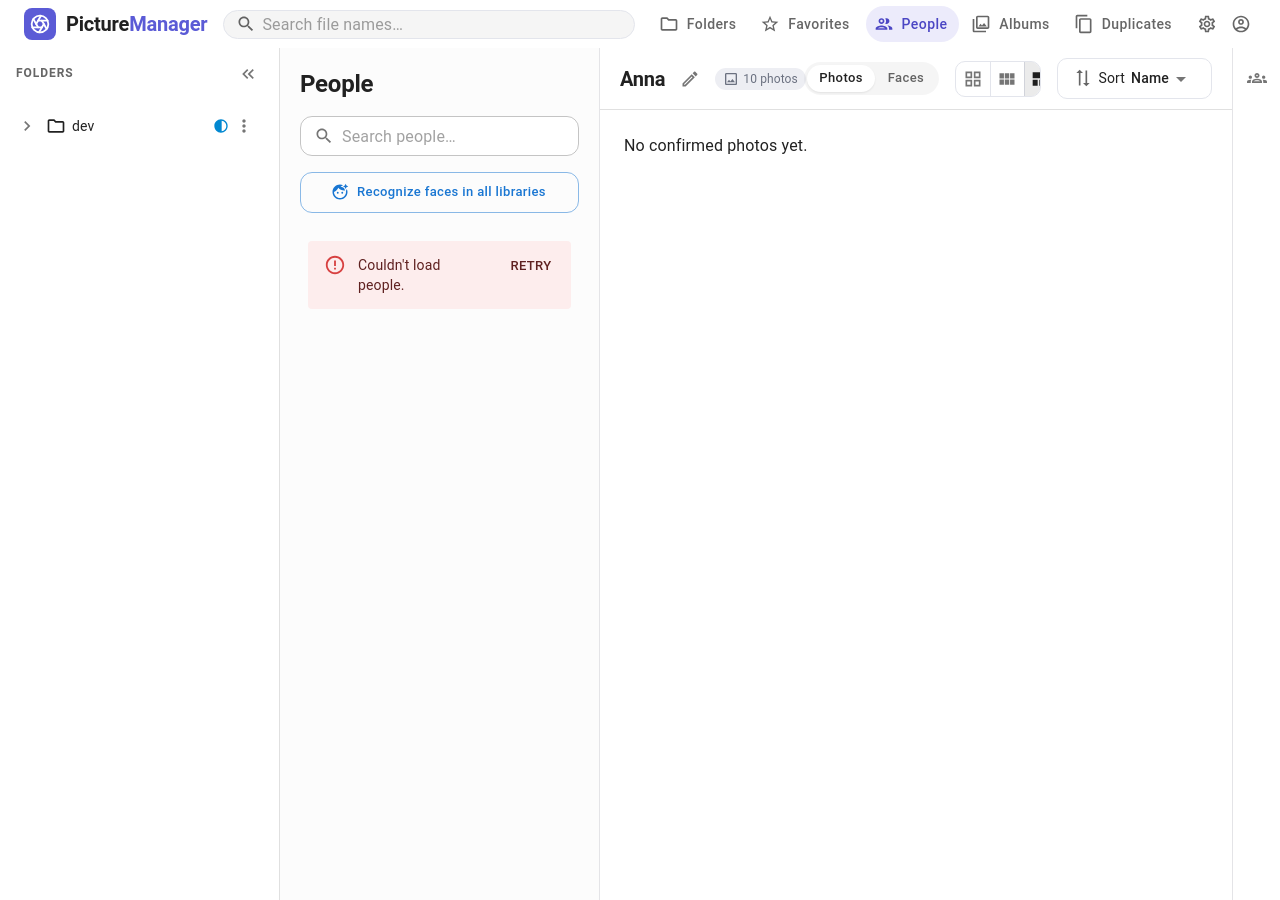
PersonView › shows the confirmed photo grid filtered by person
Check: the heading "Anna" is shown, box [620, 62, 665, 94]
Check: the text "10 photos" is shown, box [743, 70, 798, 88]
Click the button named "Edit person": (690, 78) [675, 64, 705, 94]
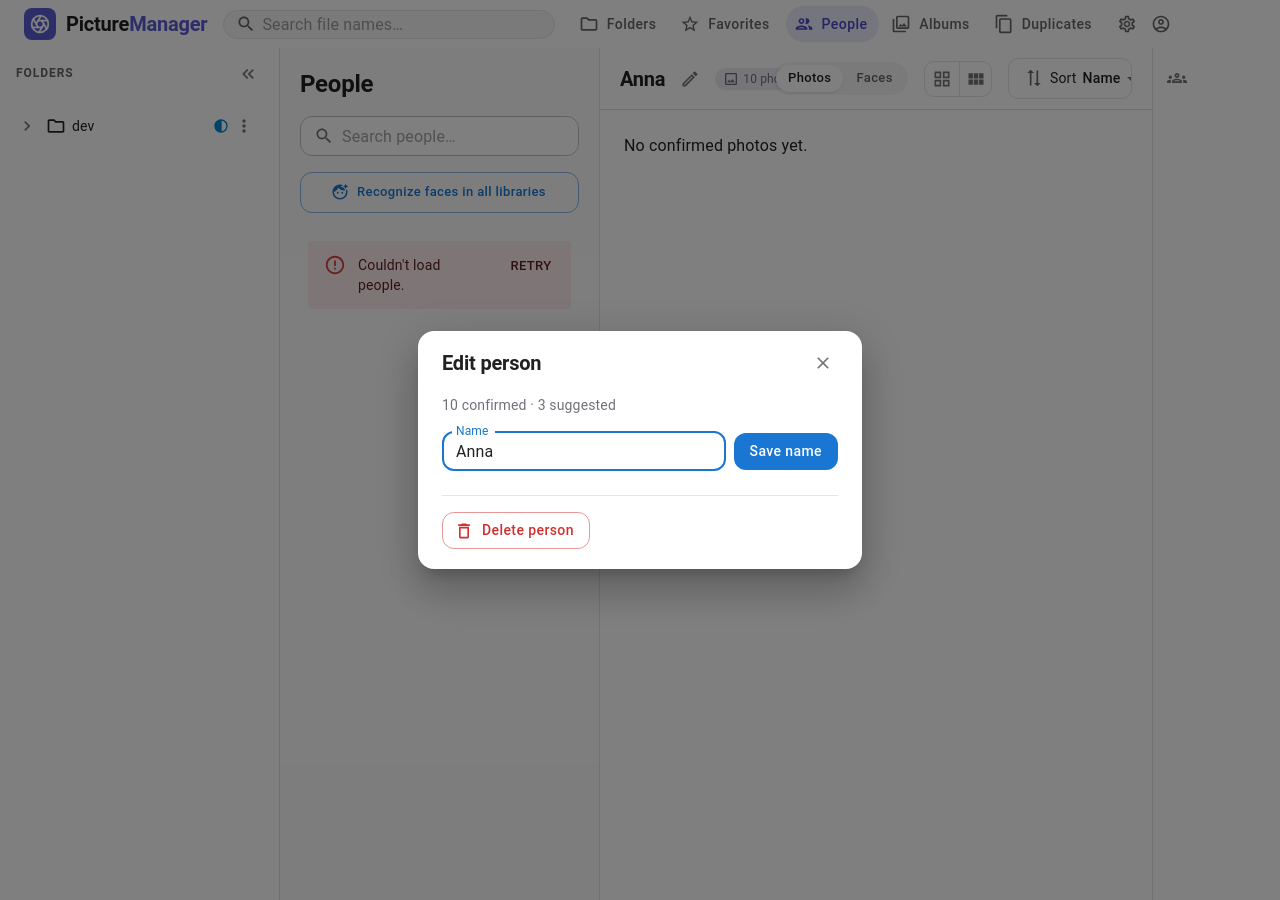
Check: the text "10 confirmed · 3 suggested" is shown, box [442, 397, 616, 413]
